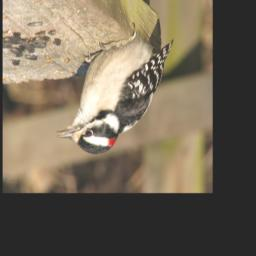Woodpecker: (54, 22, 176, 153)
